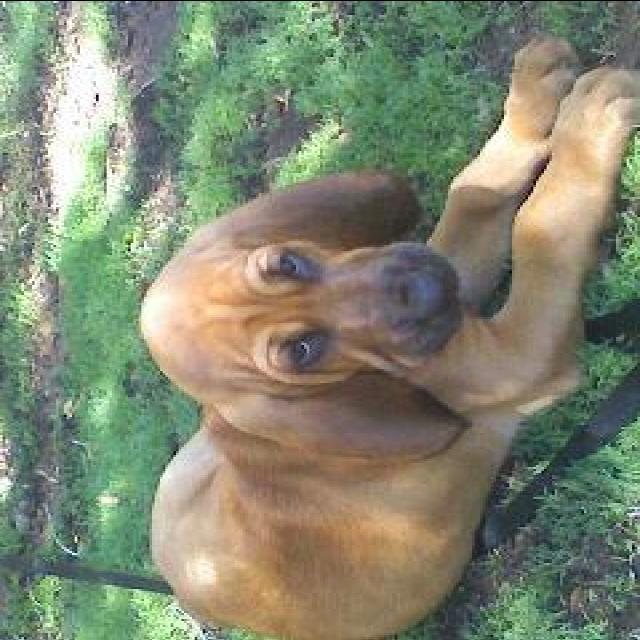bloodhound: (138, 30, 634, 636)
